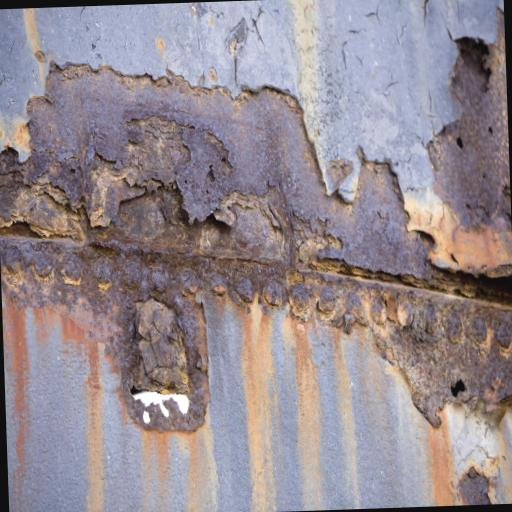segmentation: (0, 56, 502, 296), (0, 201, 386, 472), (456, 465, 490, 507)
